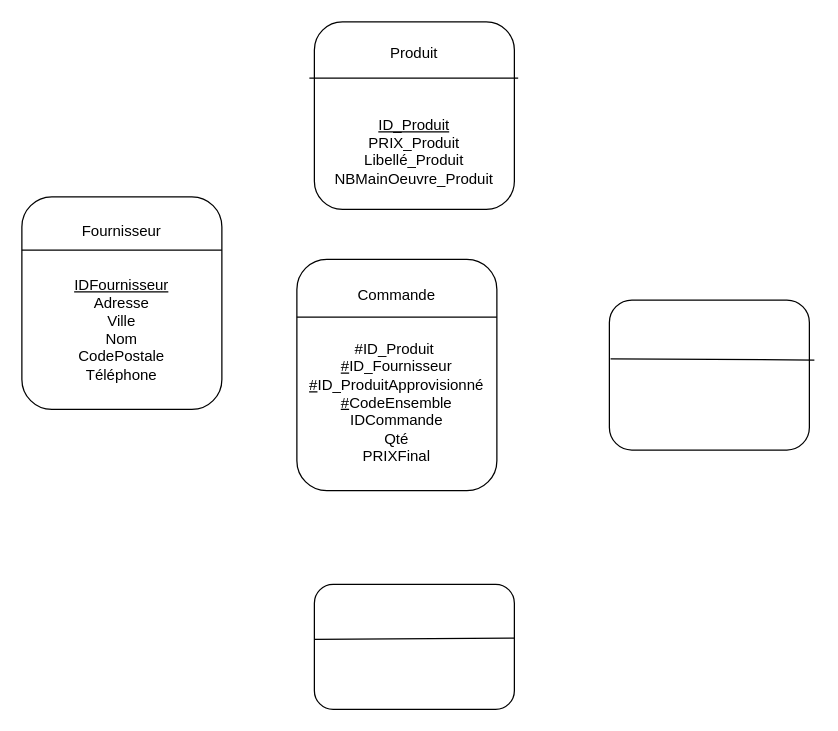
Some shapes in this 838 by 731 pixel diagram are drawn without their labels. Each missing label, with the box of its shape:
Date DateLivraison_Commande: (313, 583, 514, 709)
ProduitApprovissionné IDProduitAprovisionné PRIX Libellé: (608, 299, 809, 450)
